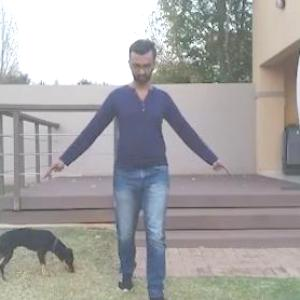land: (64, 45, 222, 297)
